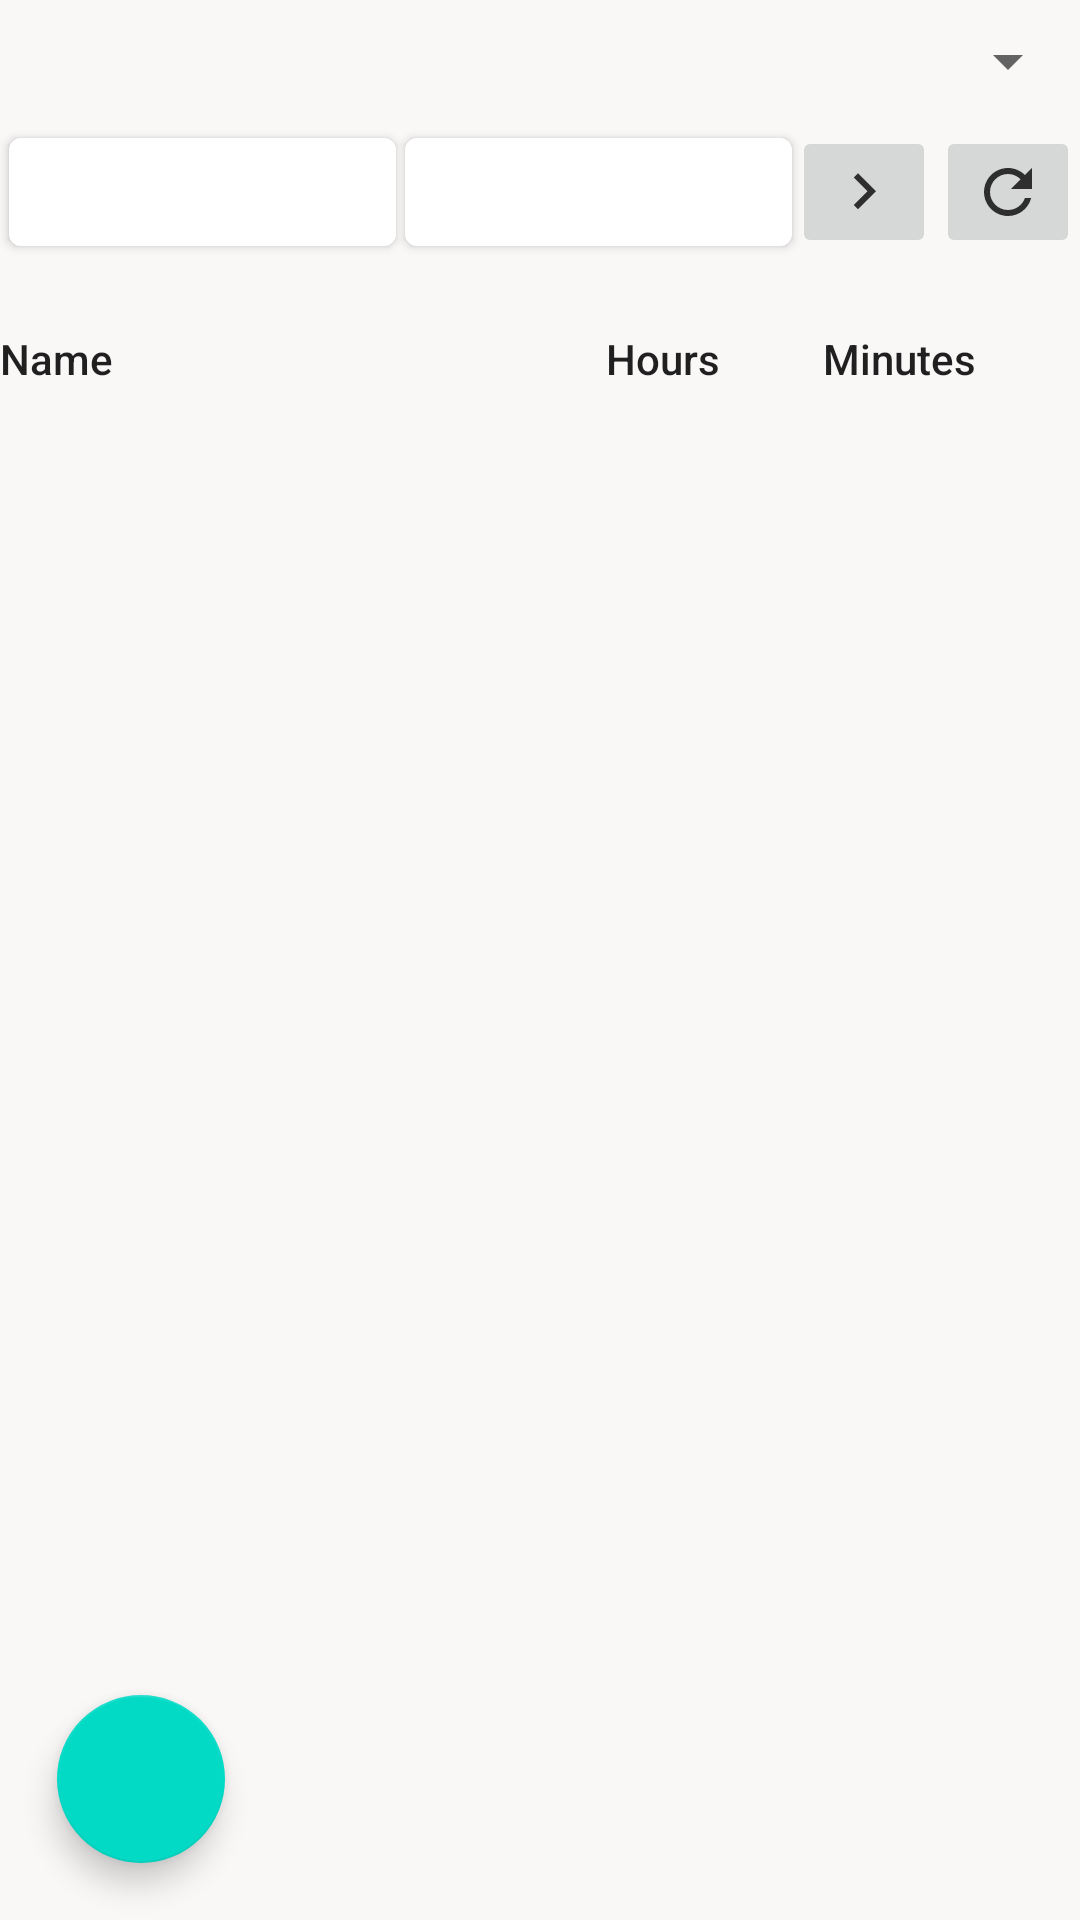

Named icons in this screenshot (1080 × 1920) and their centers, [x,y]:
arrow: [858,192]
reset: [1008,192]
